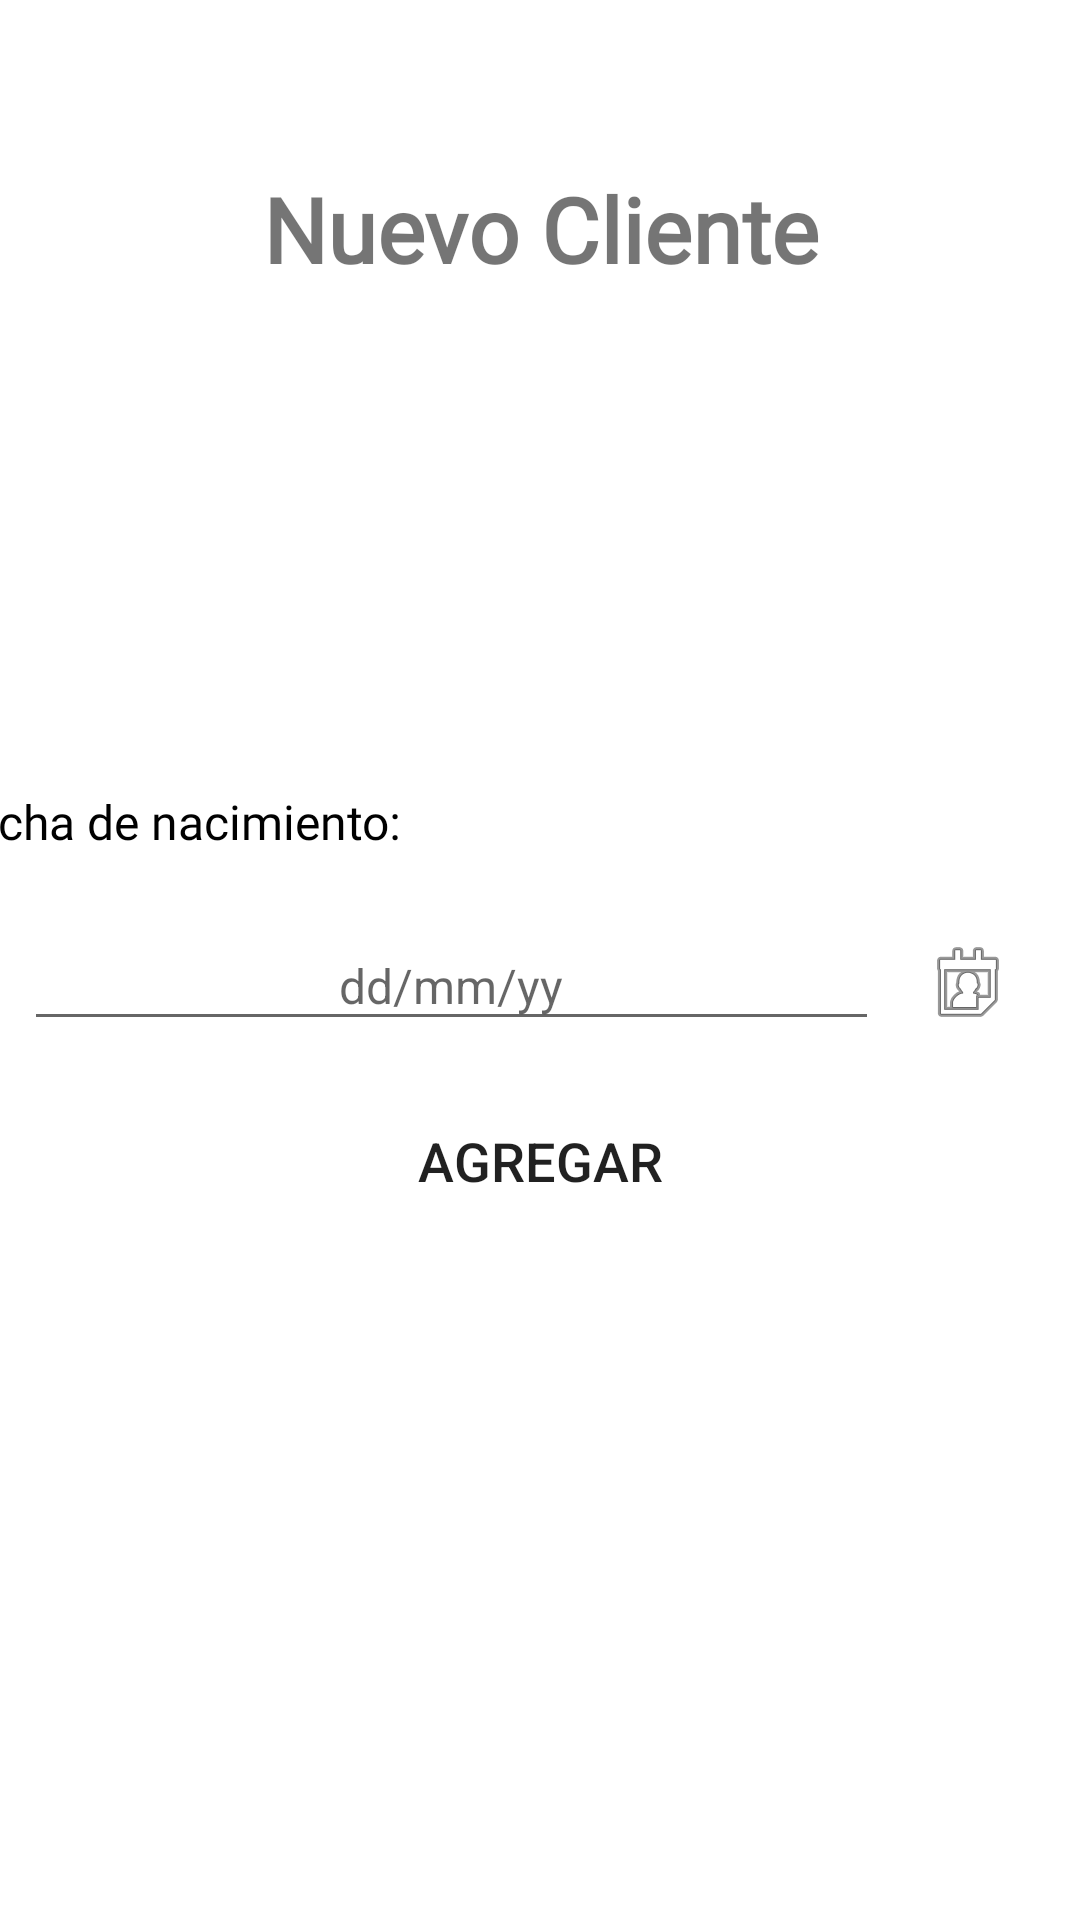

Screen size 1080*1920. Icon name, then its box in pixels as (x1, y1, x2, y2):
calendar: (937, 947, 999, 1017)
